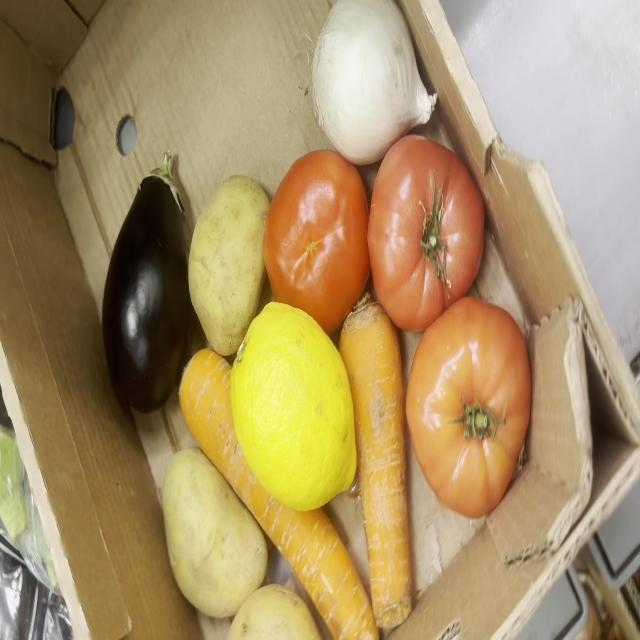carrot: (179, 349, 379, 640), (340, 296, 412, 629)
potato: (162, 448, 268, 618), (189, 174, 269, 355), (228, 585, 321, 640)
tomato: (406, 298, 531, 518), (368, 135, 484, 331), (264, 150, 370, 333)
